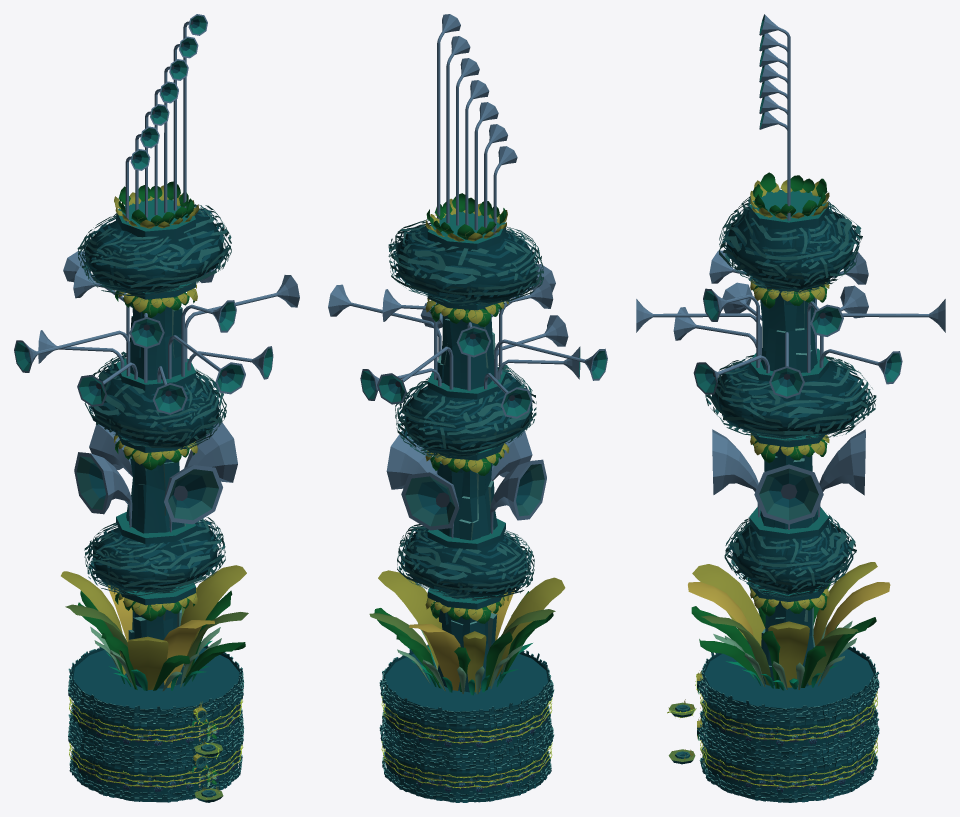
File: Instrumento_Primavera_Tutorial_Revisado.fbx
The picture shows the model from 3 angles, left to right: view 1: azimuth 30°, elevation 25°; view 2: azimuth 150°, elevation 25°; view 3: azimuth 270°, elevation 25°; orthographic projection. The views are drawn at different scales.
Parts seen in each view (by area): view 1: InstrumentoTorreGrande_Primavera, InstrumentoPauta (×2); view 2: InstrumentoTorreGrande_Primavera, InstrumentoPauta (×2); view 3: InstrumentoTorreGrande_Primavera, InstrumentoPauta (×2).
Boxes of the visible parts, x1,y1,x2,y2 form: InstrumentoTorreGrande_Primavera: [14, 14, 299, 802]; InstrumentoPauta (×2): [69, 696, 243, 788]; InstrumentoTorreGrande_Primavera: [328, 14, 607, 802]; InstrumentoPauta (×2): [381, 696, 552, 788]; InstrumentoTorreGrande_Primavera: [636, 14, 945, 802]; InstrumentoPauta (×2): [700, 691, 877, 788].
Size of the model in its own units: 5509 by 14791 by 5418.
